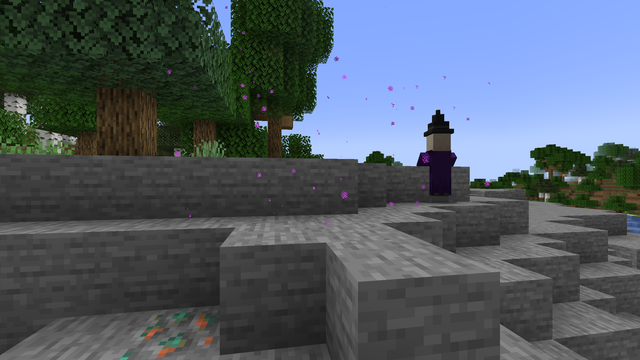sorcieres: (422, 129, 454, 202)
